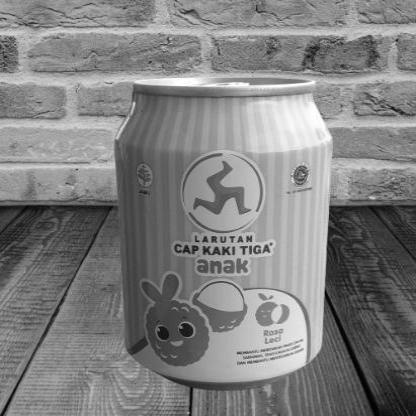alumunium_can: (111, 72, 334, 390)
